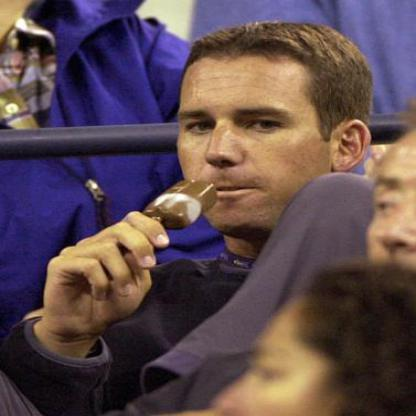face: (171, 27, 337, 241)
